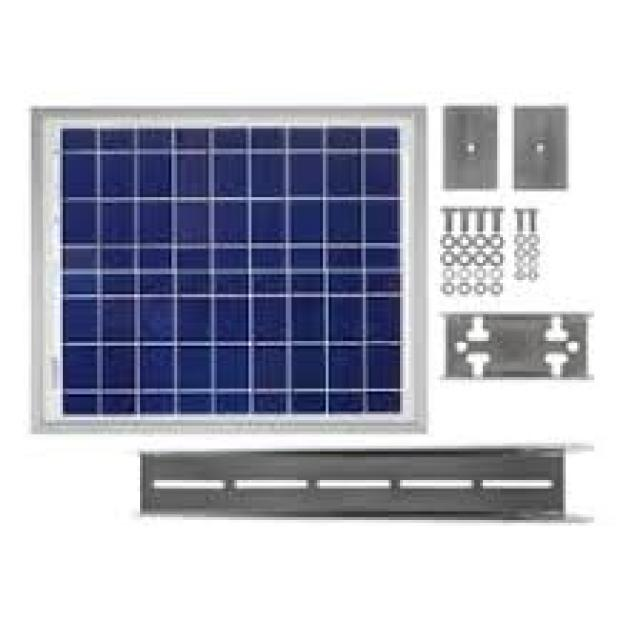no faulty: (55, 122, 412, 411)
